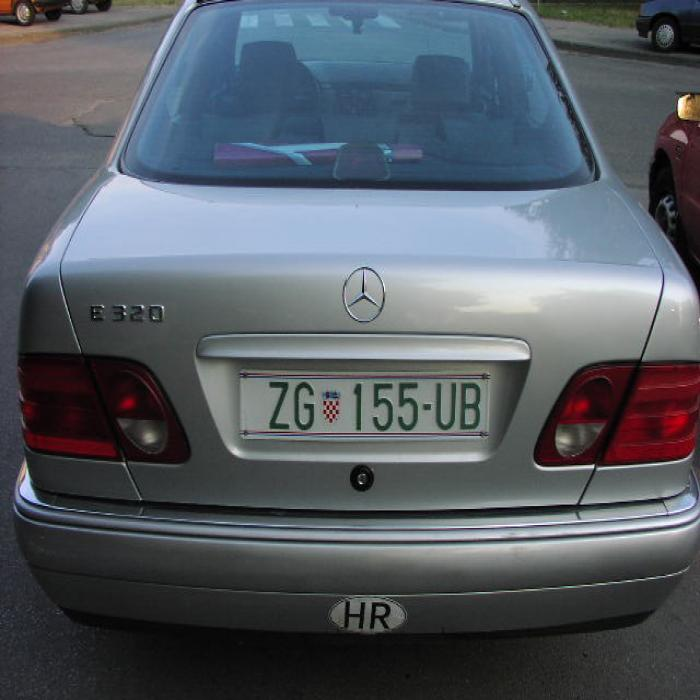number_plate: (240, 372, 485, 436)
